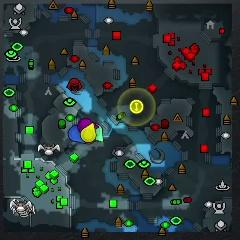Other: (130, 100, 144, 114)
p1: (69, 126, 84, 144)
p2: (94, 123, 104, 142)
p3: (78, 118, 92, 133)
p4: (81, 122, 96, 142)
